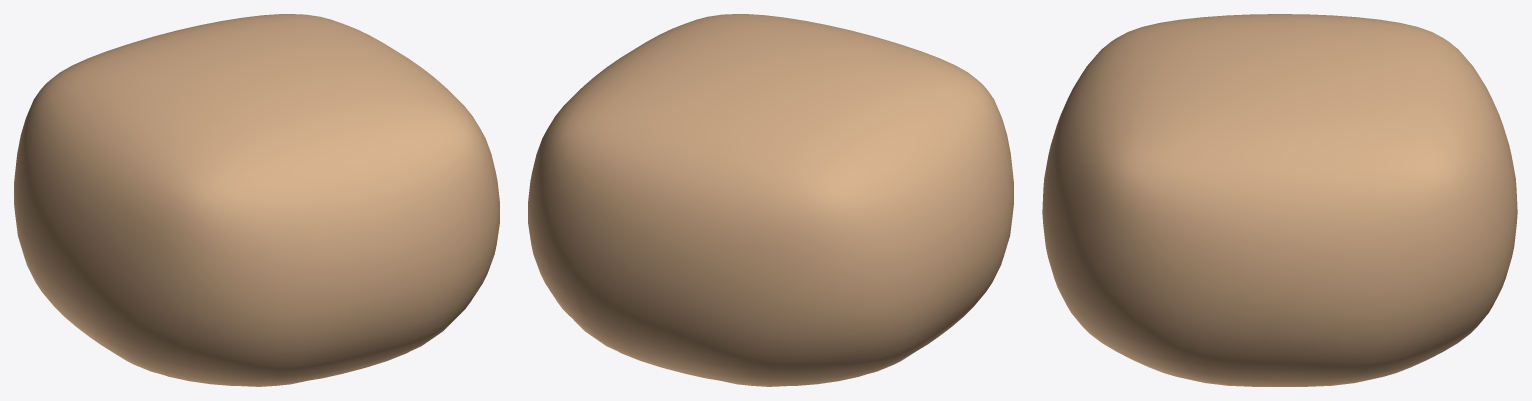
Rendered from Pouf2_1.fbx.
3 views of the same model, side by side, from view 1: azimuth 30°, elevation 25°; view 2: azimuth 150°, elevation 25°; view 3: azimuth 270°, elevation 25° (orthographic). The views are drawn at different scales.
Parts seen in each view (by area): view 1: pCube2350; view 2: pCube2350; view 3: pCube2350.
Part boxes in pixels (bbox=[...]): pCube2350: bbox=[14, 14, 499, 386]; pCube2350: bbox=[528, 14, 1013, 386]; pCube2350: bbox=[1042, 14, 1517, 386].
Size of the model in its own units: 34.76 by 23.17 by 34.75.
